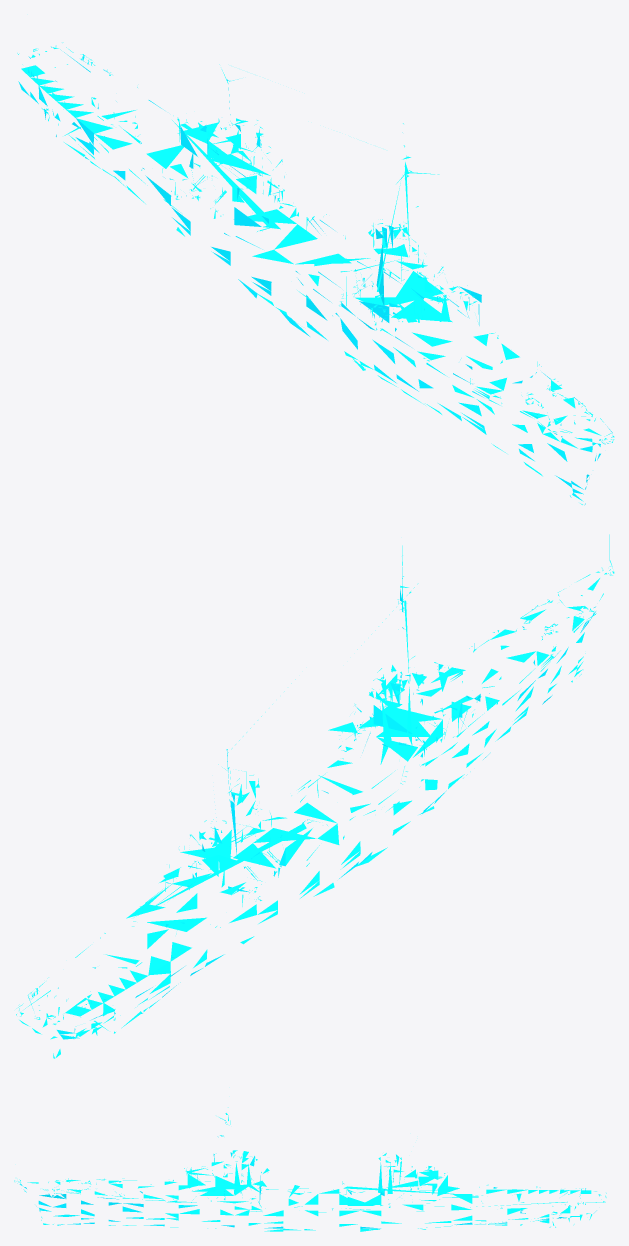
The model's file is Felix_Schultz.glb.
3 renders of one model, top to bottom at view 1: azimuth 30°, elevation 25°; view 2: azimuth 150°, elevation 25°; view 3: azimuth 270°, elevation 25°, orthographic. The views are drawn at different scales.
Bounding box in the file's own units: 0.9367 × 2.64 × 10.38.
